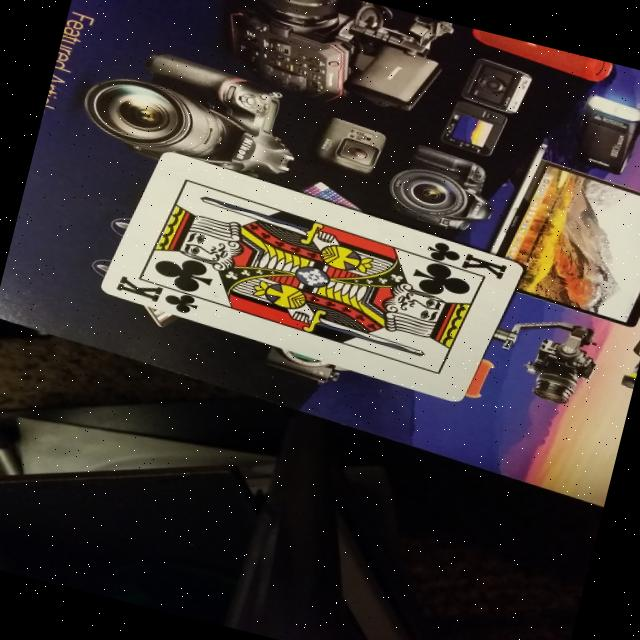Kc: (406, 237, 516, 286), (110, 272, 203, 316)
